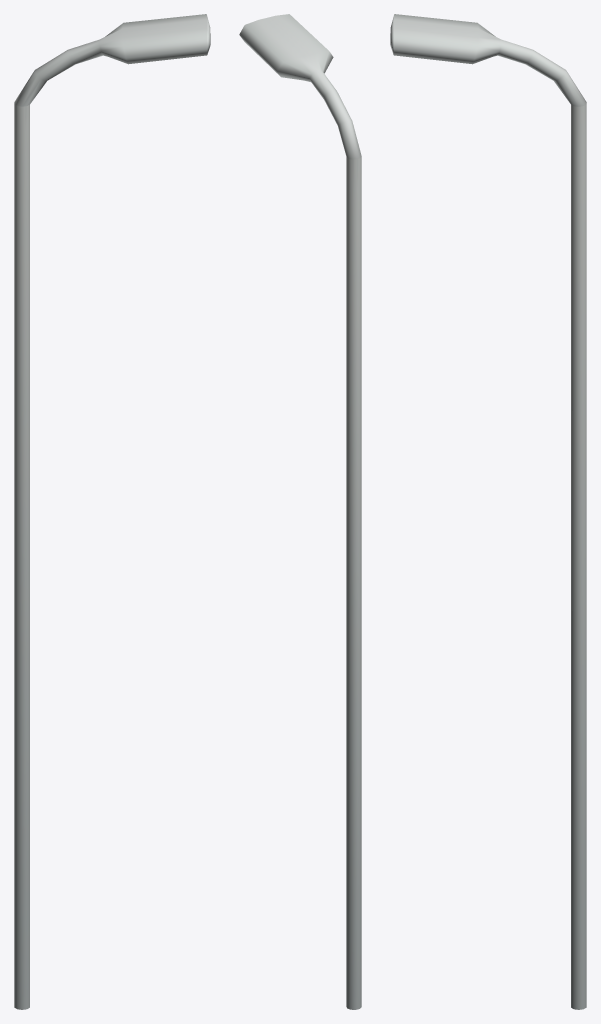
The model's file is Lanternpole.fbx.
The picture shows the model from 3 angles, left to right: view 1: azimuth 90°, elevation 25°; view 2: azimuth 210°, elevation 25°; view 3: azimuth 270°, elevation 25°; orthographic projection. The views are drawn at different scales.
Parts seen in each view (by area): view 1: Lanternpole; view 2: Lanternpole; view 3: Lanternpole.
Boxes of the visible parts, left/top/right/bottom form: Lanternpole: left=14, top=14, right=210, bottom=1009; Lanternpole: left=239, top=14, right=361, bottom=1009; Lanternpole: left=390, top=14, right=586, bottom=1009.
Bounding box in the file's own units: 41.92 × 653 × 118.
